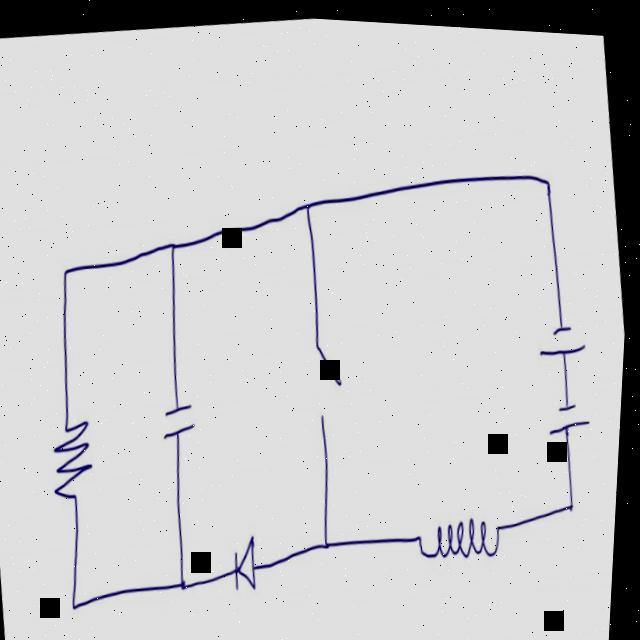capacitor: (144, 369, 213, 471)
diode: (220, 515, 280, 613)
inductor: (397, 468, 526, 589)
resistor: (35, 394, 137, 545)
source: (524, 272, 619, 454)
switch: (290, 308, 375, 472)
